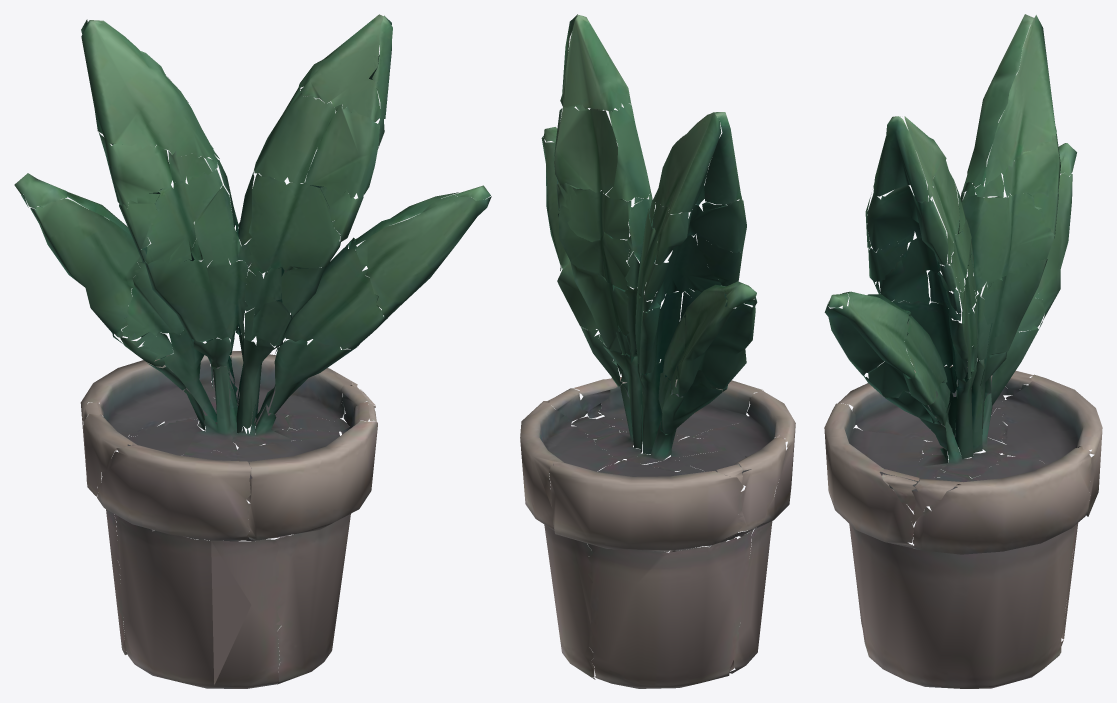
Rendered from prop18.glb.
The picture shows the model from 3 angles, left to right: view 1: azimuth 30°, elevation 25°; view 2: azimuth 150°, elevation 25°; view 3: azimuth 270°, elevation 25°; orthographic projection. The views are drawn at different scales.
Visible parts, largest first — view 1: tripo_node_696f8ad3-7b28-4f93-a92b-45443d006b43; view 2: tripo_node_696f8ad3-7b28-4f93-a92b-45443d006b43; view 3: tripo_node_696f8ad3-7b28-4f93-a92b-45443d006b43.
Part boxes in pixels (x1,y1,x2,y2): tripo_node_696f8ad3-7b28-4f93-a92b-45443d006b43: (14, 14, 491, 688); tripo_node_696f8ad3-7b28-4f93-a92b-45443d006b43: (520, 14, 795, 688); tripo_node_696f8ad3-7b28-4f93-a92b-45443d006b43: (824, 14, 1102, 688).
Size of the model in its own units: 0.5832 by 1 by 0.4265.
1 material, 1 textured.
